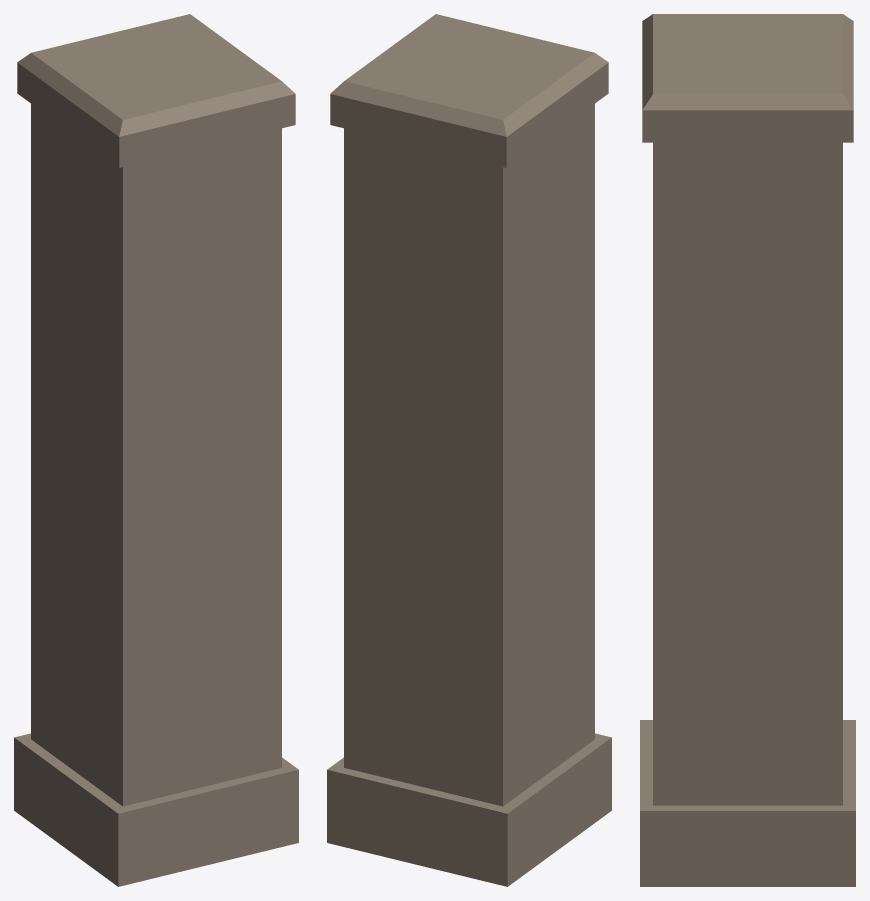
File: Fence_09.fbx
3 views of the same model, side by side, from view 1: azimuth 30°, elevation 25°; view 2: azimuth 150°, elevation 25°; view 3: azimuth 270°, elevation 25° (orthographic). The views are drawn at different scales.
Parts seen in each view (by area): view 1: Fence_09; view 2: Fence_09; view 3: Fence_09.
Boxes of the visible parts, left/top/right/bottom form: Fence_09: left=14, top=14, right=298, bottom=886; Fence_09: left=327, top=14, right=611, bottom=886; Fence_09: left=640, top=14, right=855, bottom=886.
Size of the model in its own units: 45.43 by 183 by 45.43.
